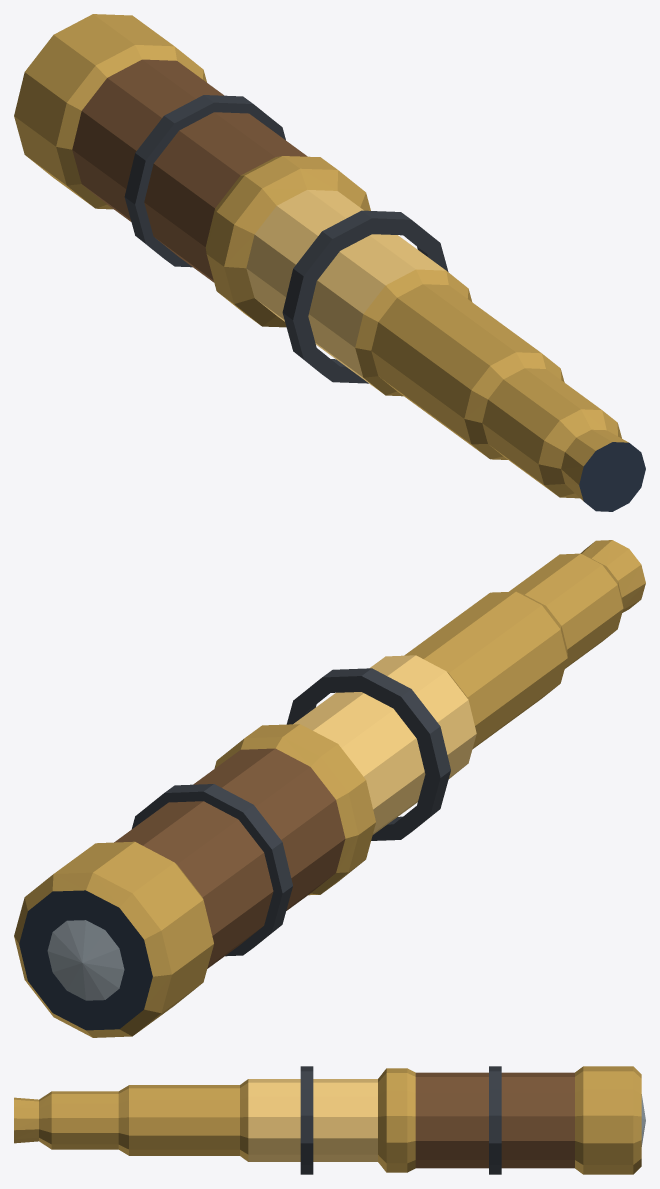
Rendered from Spyglass.obj.
3 views of the same model, one above another, from view 1: azimuth 30°, elevation 25°; view 2: azimuth 150°, elevation 25°; view 3: azimuth 270°, elevation 25° (orthographic). The views are drawn at different scales.
Size of the model in its own units: 0.52 by 0.52 by 3.02.
